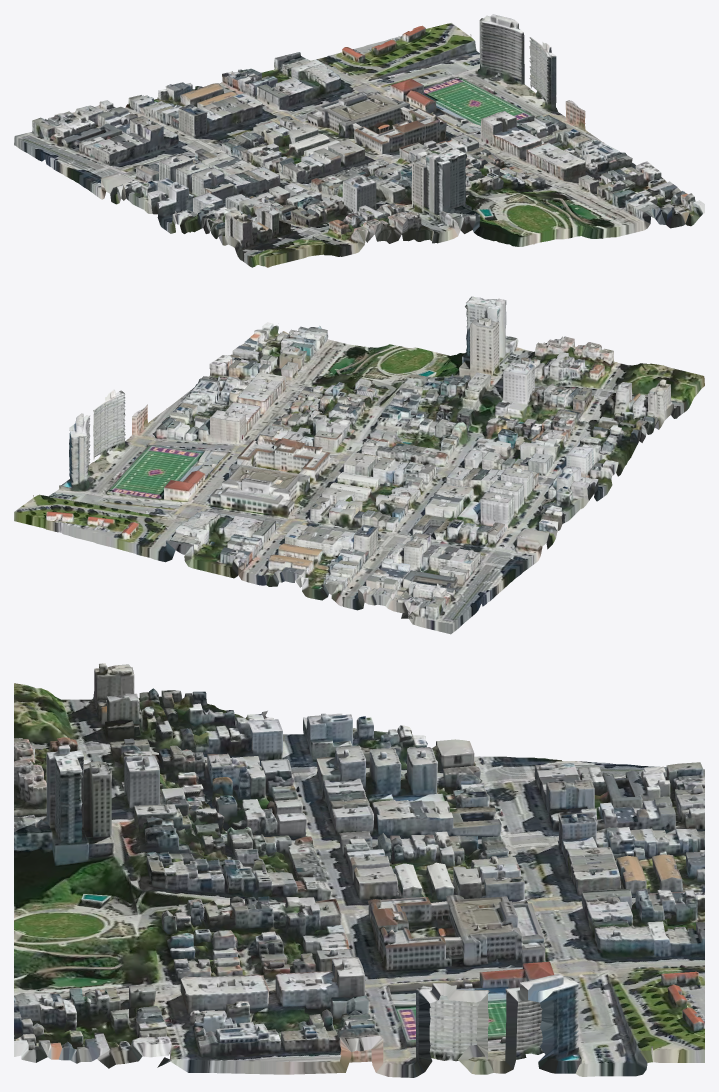
File: z16-10481-25324-h0-yup-uvflip-v3-world.glb
3 renders of one model, top to bottom at view 1: azimuth 30°, elevation 25°; view 2: azimuth 150°, elevation 25°; view 3: azimuth 270°, elevation 25°, orthographic. The views are drawn at different scales.
Bounding box in the file's own units: 483 × 127 × 485.
1 material, 1 textured.
